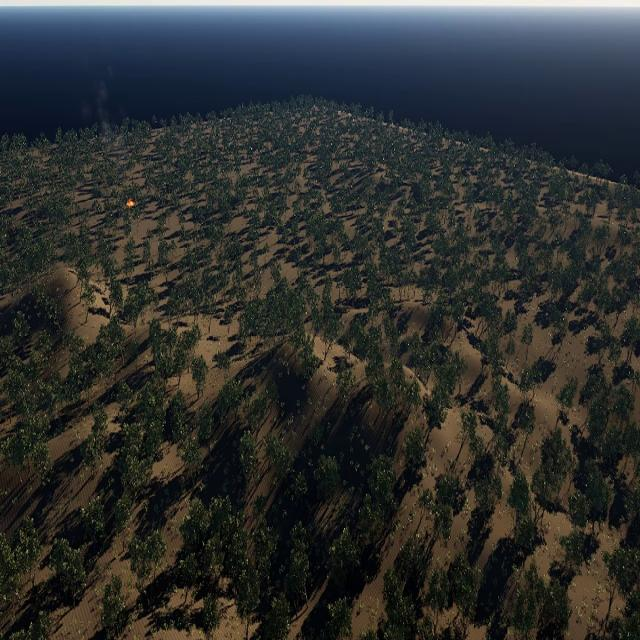fire: (128, 201, 136, 208)
smoke: (81, 62, 129, 182)
